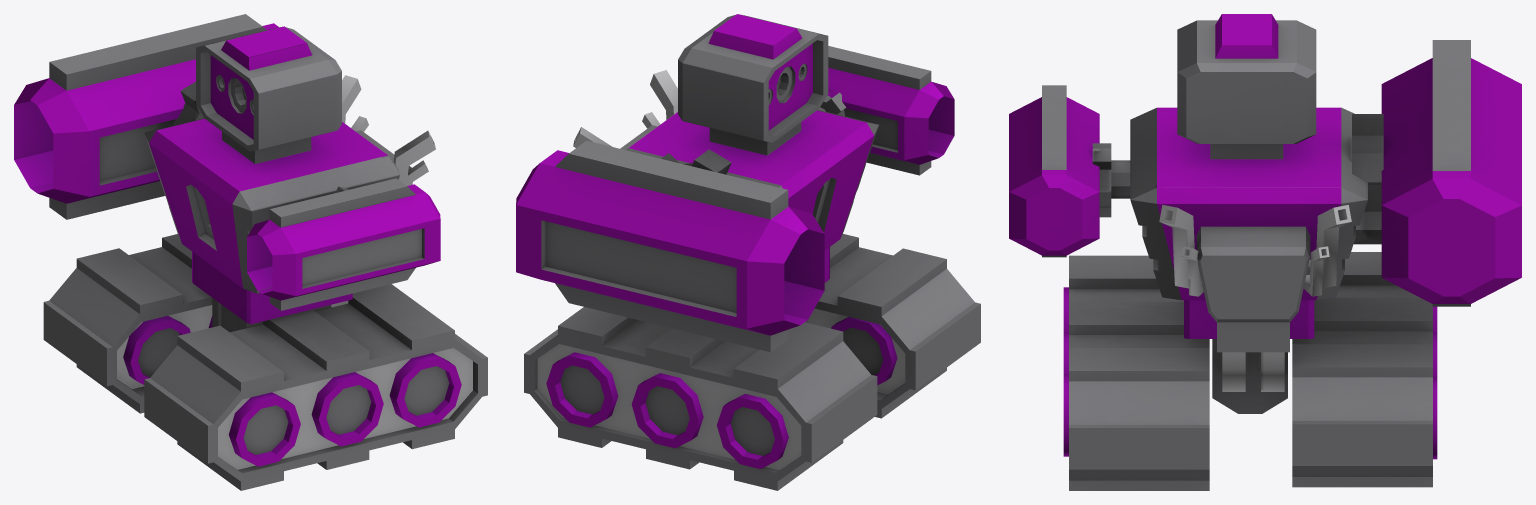
File: Enemy2_Move8.obj
3 renders of one model, left to right at view 1: azimuth 30°, elevation 25°; view 2: azimuth 150°, elevation 25°; view 3: azimuth 270°, elevation 25°, orthographic. The views are drawn at different scales.
Visible parts, largest first — view 1: Object006, Object007, Object010, Object009; view 2: Object006, Object007, Object010, Object009; view 3: Object006, Object007, Object010, Object009, Object008.
Boxes of the visible parts, x1,y1,x2,y2 form: Object006: (14, 14, 487, 490); Object007: (144, 26, 399, 332); Object010: (331, 75, 435, 307); Object009: (172, 82, 203, 125); Object006: (516, 46, 980, 490); Object007: (627, 14, 878, 322); Object010: (573, 70, 677, 150); Object009: (661, 149, 731, 174); Object006: (1009, 40, 1521, 490); Object007: (1130, 14, 1367, 413); Object010: (1159, 204, 1351, 391); Object009: (1352, 114, 1383, 244); Object008: (1092, 143, 1130, 217).
Size of the model in its own units: 87.45 by 108 by 125.
